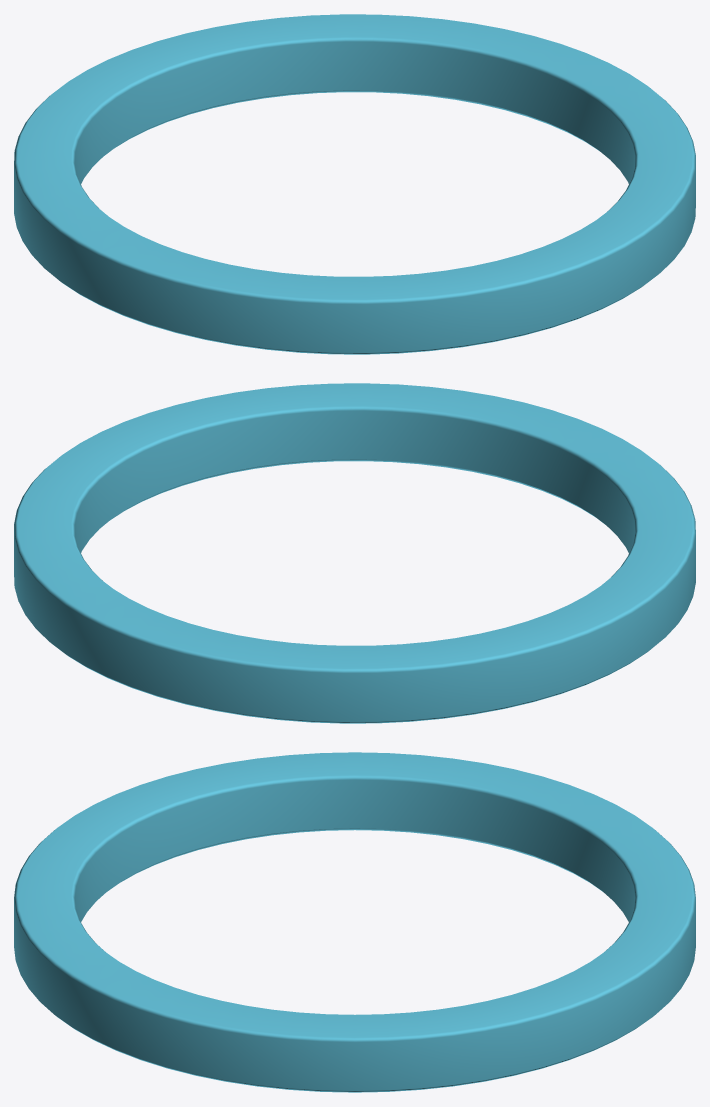
The picture shows the model from 3 angles, top to bottom: view 1: azimuth 30°, elevation 25°; view 2: azimuth 150°, elevation 25°; view 3: azimuth 270°, elevation 25°; orthographic projection.
Visible parts, largest first — view 1: seal_body; view 2: seal_body; view 3: seal_body.
Boxes of the visible parts, bbox=[...] form: seal_body: bbox=[14, 14, 695, 354]; seal_body: bbox=[14, 383, 695, 723]; seal_body: bbox=[14, 752, 695, 1092].
Size of the model in its own units: 0.0889 by 0.00793 by 0.0889.
